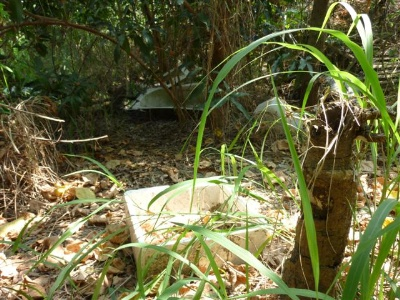styrofoam: (122, 175, 272, 280)
tub: (127, 83, 213, 120)
